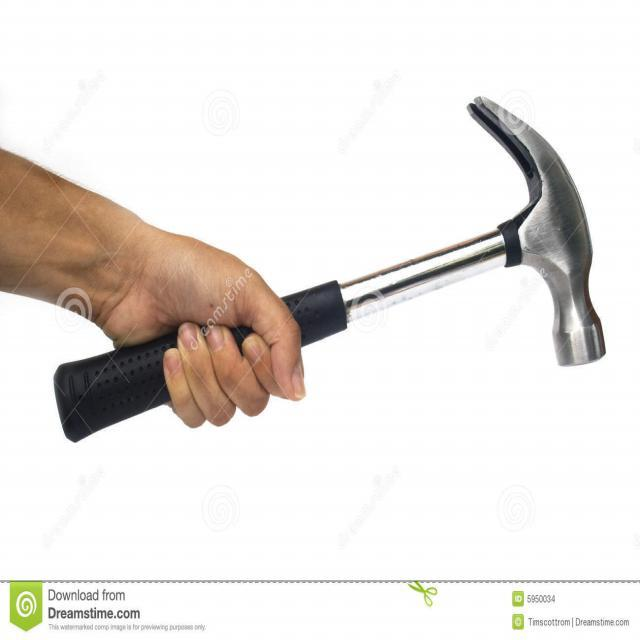hammer: (51, 90, 614, 446)
